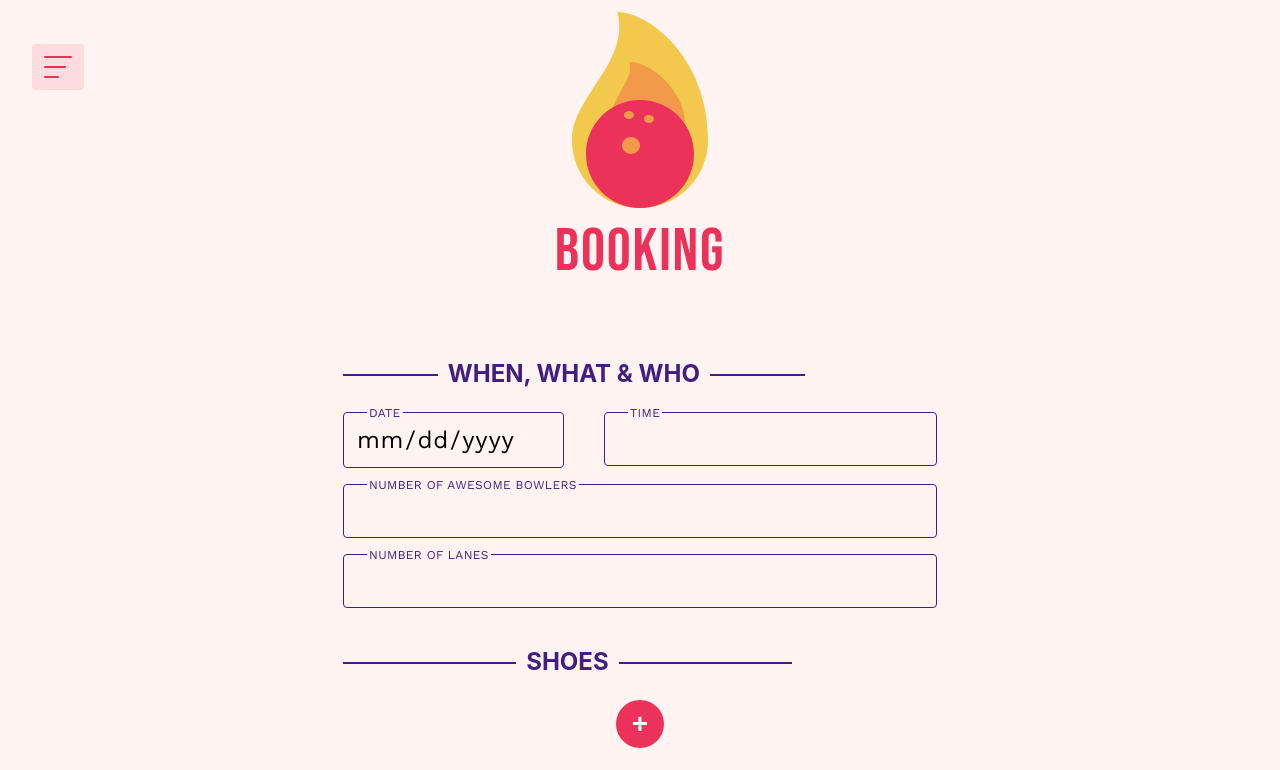
Test: shoes testing › should allow removing shoe
Click the button "+": (640, 724) [616, 700, 664, 748]
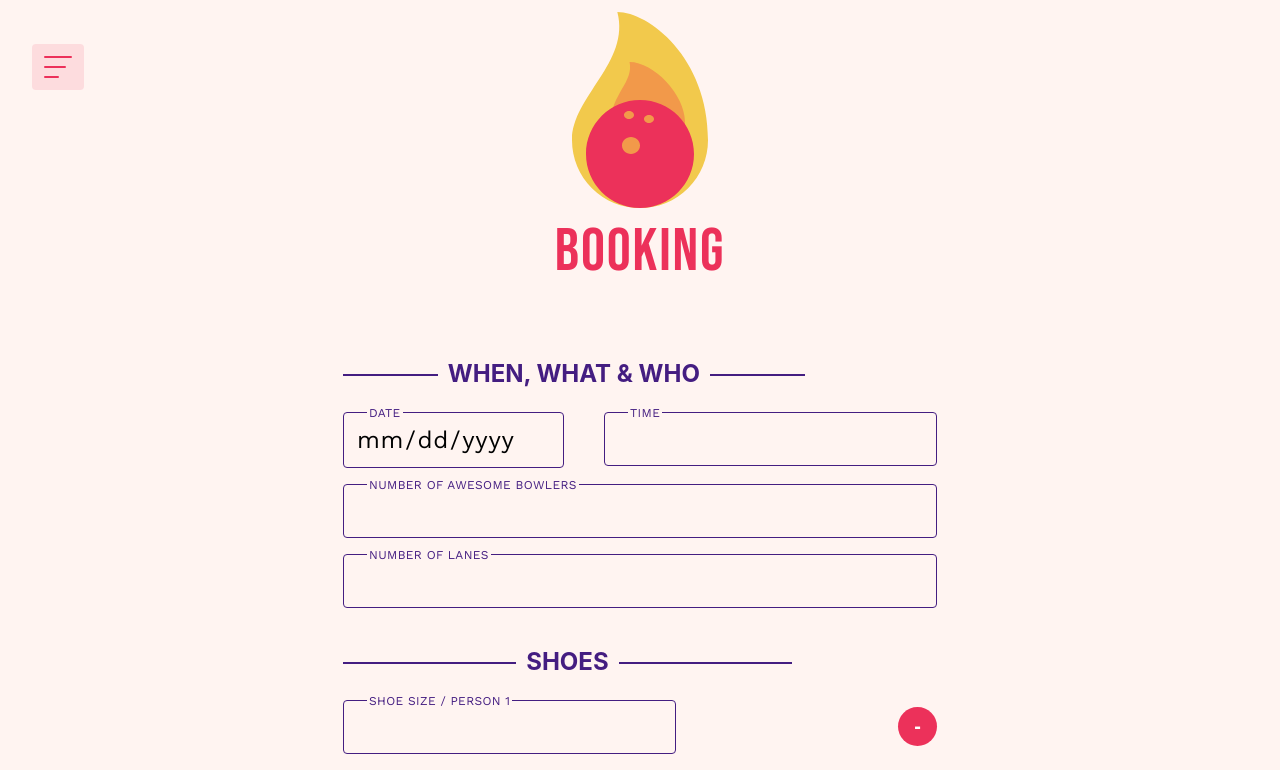
Click the button "-": (918, 727) [898, 707, 937, 746]
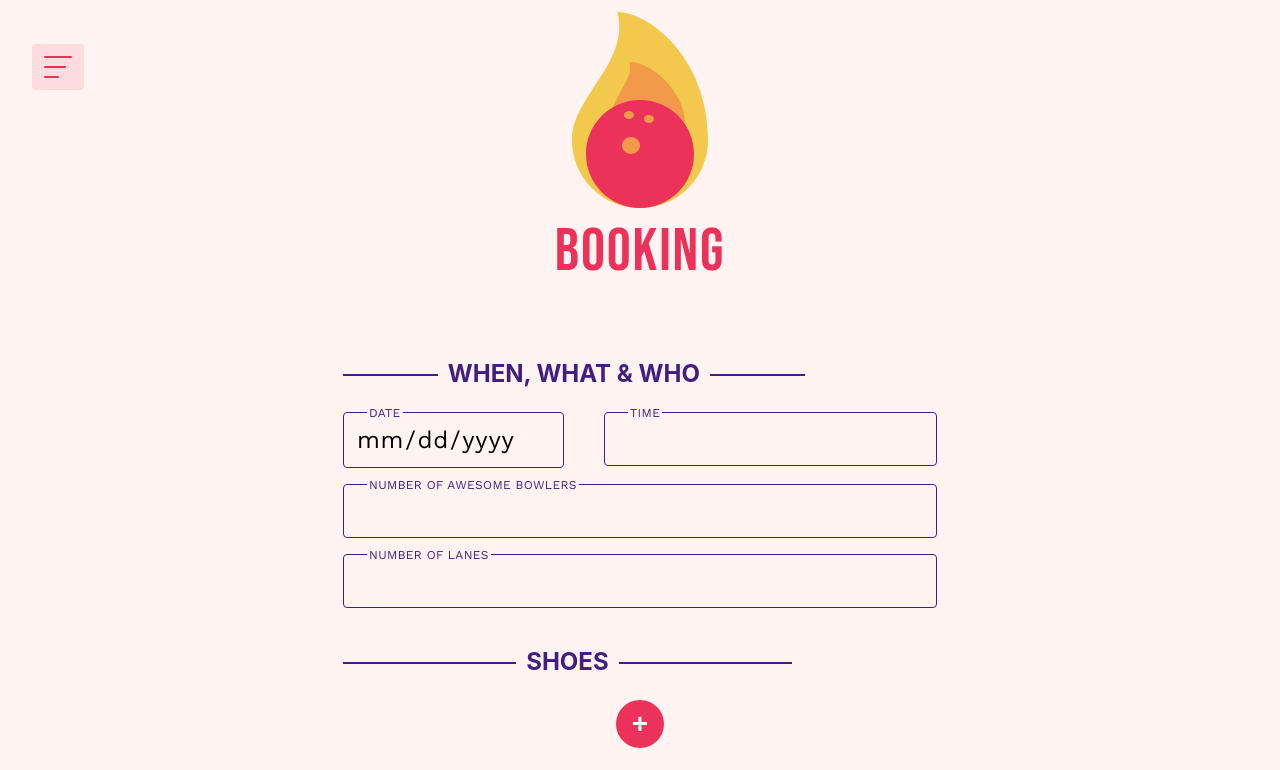
Result: the button "-" is gone
